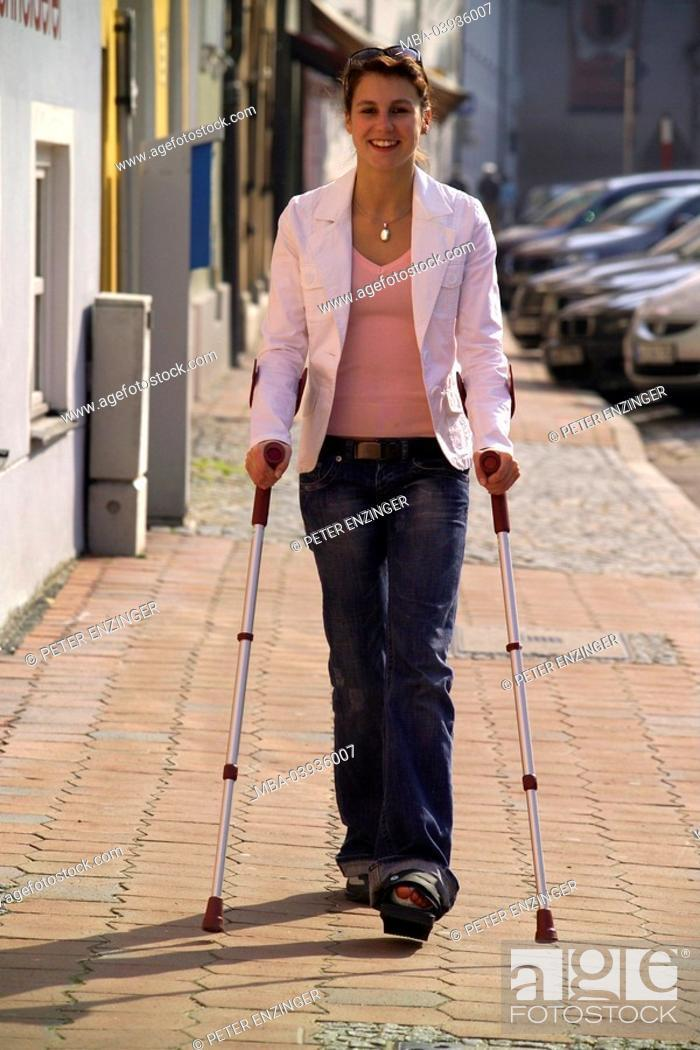crutches: (201, 41, 559, 947)
